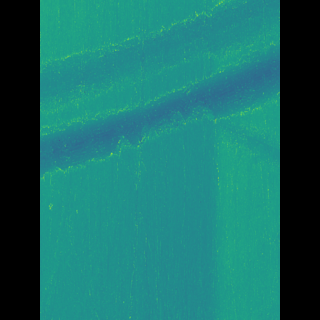Loch: (70, 0, 251, 181)
